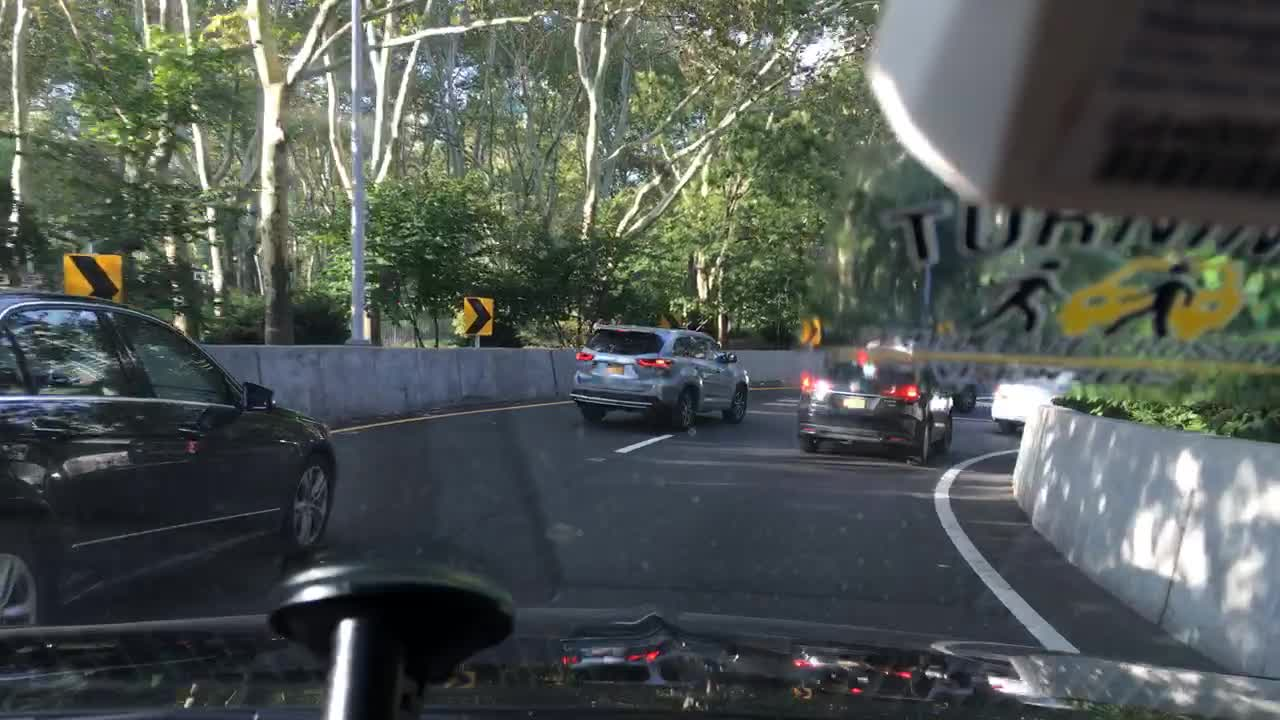car: (0, 286, 338, 629), (571, 320, 752, 434), (799, 348, 955, 462), (864, 335, 979, 411), (990, 365, 1082, 425), (475, 561, 494, 564)
traffic sign: (62, 252, 120, 305), (466, 295, 494, 338), (796, 317, 820, 343), (938, 317, 955, 334), (659, 314, 682, 326)
